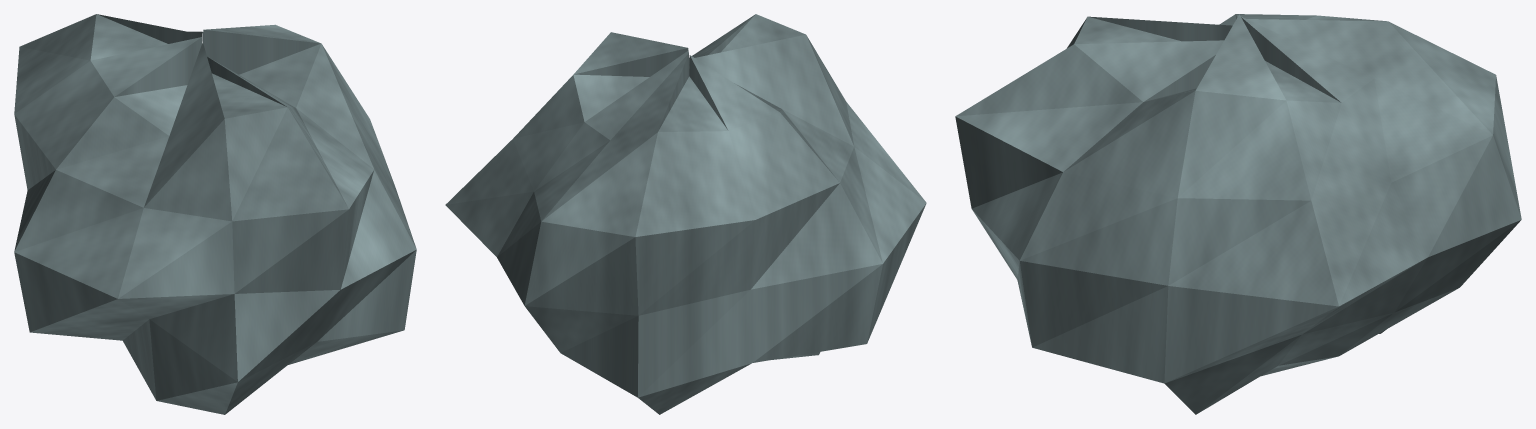
File: roadside_rock_04.glb
3 views of the same model, side by side, from view 1: azimuth 30°, elevation 25°; view 2: azimuth 150°, elevation 25°; view 3: azimuth 270°, elevation 25° (orthographic). The views are drawn at different scales.
Parts seen in each view (by area): view 1: rock; view 2: rock; view 3: rock.
Part boxes in pixels (x1,y1,x2,y2): rock: (14,14,416,414); rock: (445,14,926,414); rock: (955,14,1521,414).
Bounding box in the file's own units: 2.31 × 1.93 × 2.67.
Materials: 1 (1 with a texture image).
